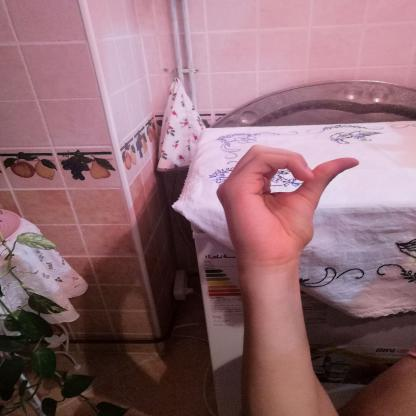WAW: (208, 134, 371, 278)
